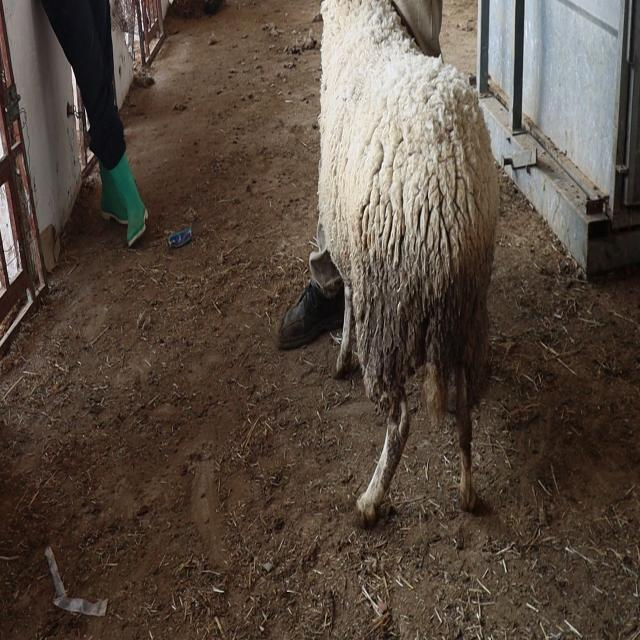Score_5: (318, 0, 498, 521)
